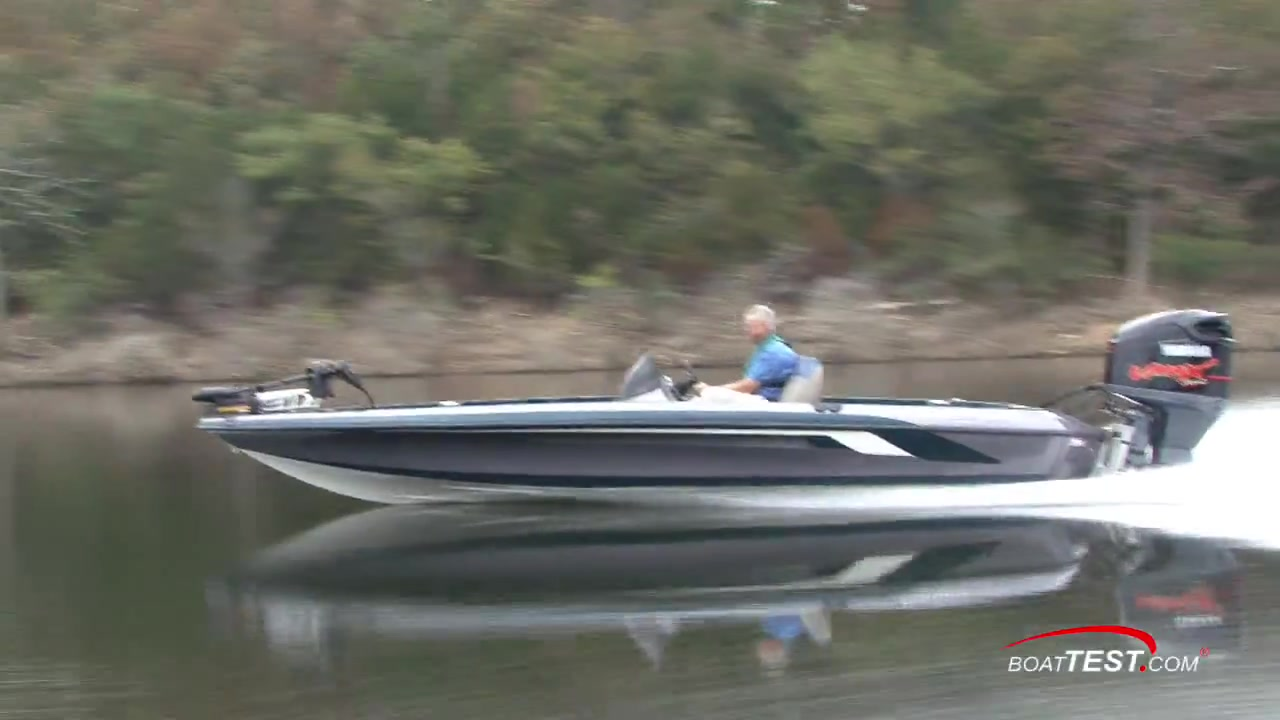boat: (190, 308, 1245, 501)
